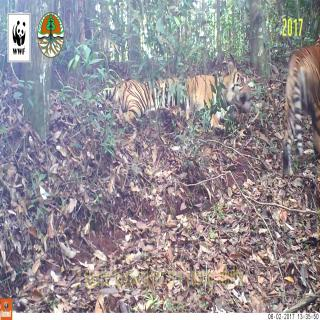Tiger: (100, 66, 268, 130), (281, 41, 320, 162)
